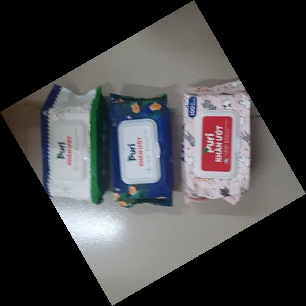Puri Trang: (40, 83, 111, 204)
Puri Xanh: (106, 92, 176, 210)
Puri hong: (178, 77, 255, 206)
